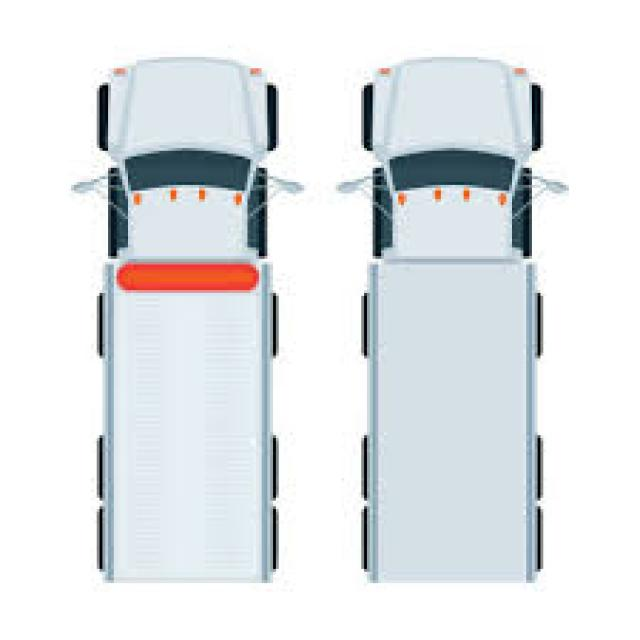truck: (98, 52, 281, 584), (362, 56, 546, 584)
